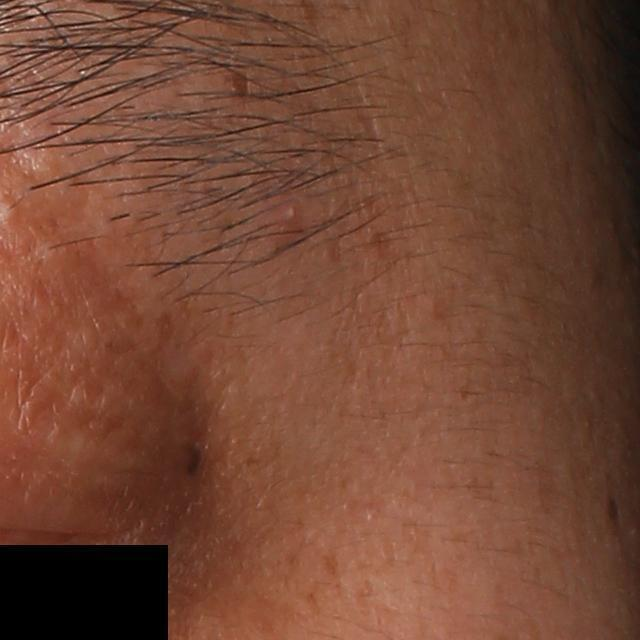comedo: (281, 200, 306, 227)
nevus: (185, 437, 202, 482), (606, 495, 625, 532)
